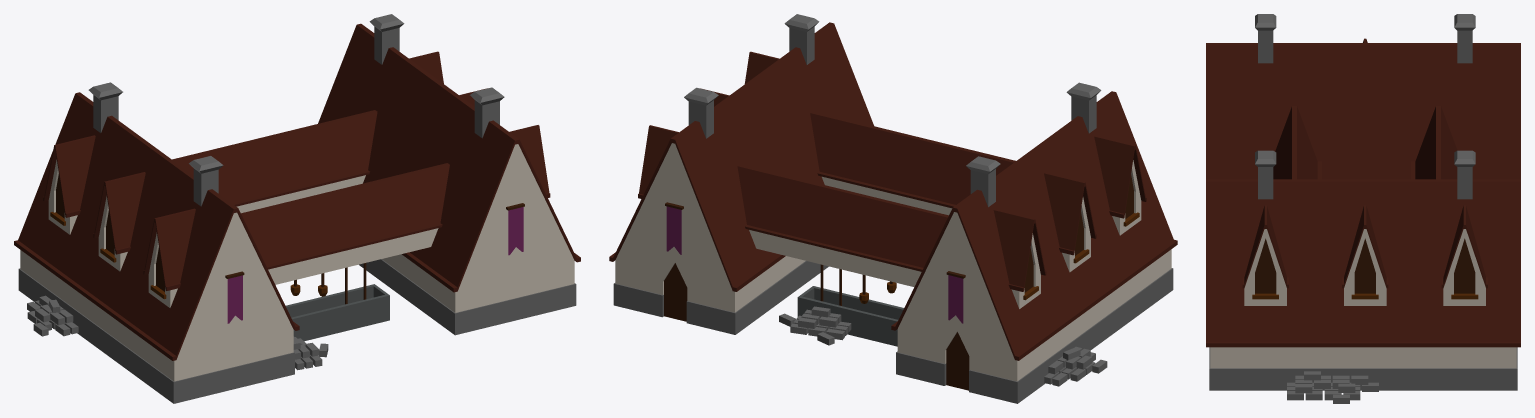
The model's file is MineLevel1v1.fbx.
The picture shows the model from 3 angles, left to right: view 1: azimuth 30°, elevation 25°; view 2: azimuth 150°, elevation 25°; view 3: azimuth 270°, elevation 25°; orthographic projection.
Visible parts, largest first — view 1: Plane.434; view 2: Plane.434; view 3: Plane.434.
Boxes of the visible parts, x1,y1,x2,y2 form: Plane.434: (14, 14, 580, 403); Plane.434: (609, 14, 1177, 403); Plane.434: (1206, 14, 1520, 403).
Size of the model in its own units: 484 by 208 by 283.
